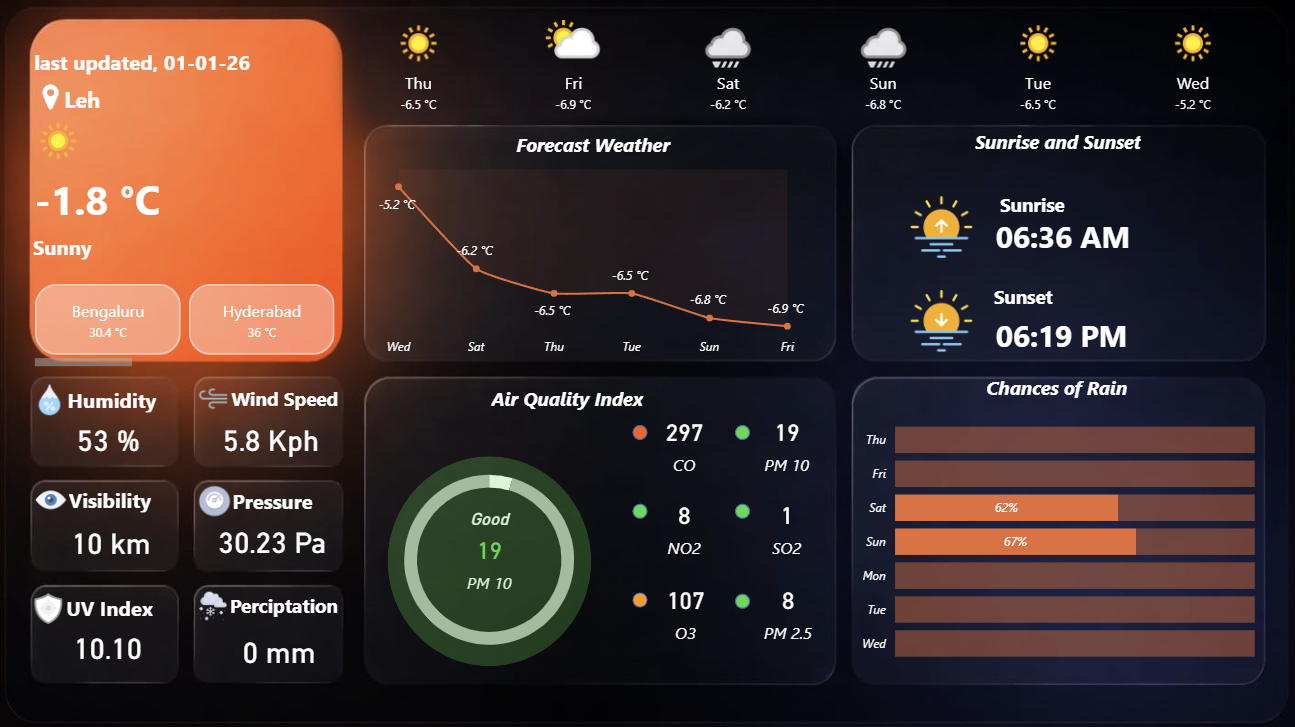

The page's visual inventory and layout, read from the dashboard file:
{"tool":"powerbi","page":{"name":"Page 1","canvas":[1280,720],"ordinal":0},"visuals":[{"type":"advancedSlicerVisual","fields":{"Values":["Location.location.name"]},"box":[29.6,275.3,306.2,93.8],"z":0},{"type":"shape","box":[29.6,223.5,139.5,39.5],"z":1000},{"type":"shape","box":[29.6,164.2,153.1,60.5],"z":2000},{"type":"shape","box":[60.5,77.8,139.5,39.5],"z":3000},{"type":"shape","box":[30.9,40.7,235.8,39.5],"z":4000},{"type":"cardVisual","fields":{"Data":["Min(Current.current.condition.icon)"]},"box":[8.6,100,97.5,79],"z":5000},{"type":"shape","box":[65.4,476.5,98.8,32.1],"z":6000},{"type":"image","box":[29.6,77.8,40.7,35.8],"z":7000},{"type":"image","box":[34.6,475.3,30.9,37],"z":8000},{"type":"shape","box":[64.6,377.9,98.8,32.1],"z":9000},{"type":"image","box":[33.7,376.7,30.9,37],"z":10000},{"type":"shape","box":[225.9,376.5,121,32.1],"z":11000},{"type":"image","box":[194.8,374.8,30.9,37],"z":12000},{"type":"shape","box":[226.8,477.9,98.8,32.1],"z":13000},{"type":"image","box":[195.9,476.7,30.9,37],"z":14000},{"type":"shape","box":[224.7,581.5,133.3,32.1],"z":15000},{"type":"image","box":[194.1,580.5,30.9,37],"z":16000},{"type":"shape","box":[63.1,583.8,98.8,32.1],"z":17000},{"type":"image","box":[32.2,582.6,30.9,37],"z":18000},{"type":"card","fields":{"Values":["_Measures.Humidity"]},"box":[64.2,408.6,85.2,50.6],"z":19000},{"type":"card","fields":{"Values":["_Measures.Visibility"]},"box":[58,509.9,103.7,50.6],"z":20000},{"type":"card","fields":{"Values":["Sum(Current.current.uv)"]},"box":[64.2,613.6,85.2,50.6],"z":21000},{"type":"card","fields":{"Values":["_Measures.Wind_Speed"]},"box":[192.6,408.6,149.4,50.6],"z":22000},{"type":"card","fields":{"Values":["_Measures.Pressure"]},"box":[209.9,508.6,118.5,50.6],"z":23000},{"type":"card","fields":{"Values":["_Measures.Perciptation/rainfall"]},"box":[228.4,617.3,95.1,50.6],"z":24000},{"type":"advancedSlicerVisual","fields":{"Values":["Forecast_Day.Day_Name"]},"box":[335.8,12.3,924.7,117.3],"z":25000},{"type":"lineChart","title":"Forecast Weather","fields":{"Category":["Forecast_Day.Day_Name"],"Y":["Sum(Forecast_Day.forecast.forecastday.day.avgtemp_c)"]},"box":[358,129.6,455.6,230.9],"z":26000},{"type":"shape","box":[960.5,123.5,208.6,32.1],"z":27000},{"type":"shape","box":[979,202.5,153.1,60.5],"z":28000},{"type":"shape","box":[979,300,153.1,60.5],"z":29000},{"type":"shape","box":[985.2,185.2,80.2,32.1],"z":30000},{"type":"shape","box":[979,276.5,80.2,32.1],"z":31000},{"type":"image","box":[880.2,193.8,98.8,60.5],"z":32000},{"type":"image","box":[880.2,286.4,98.8,60.5],"z":33000},{"type":"hundredPercentStackedBarChart","title":"Chances of Rain","fields":{"Category":["Forecast_Day.Day_Name"],"Y":["Sum(Forecast_Day.forecast.forecastday.day.daily_chance_of_rain)","_Measures.Left_value_rain"]},"box":[843.2,370.4,401.2,297.5],"z":34000},{"type":"shape","box":[482.7,376.5,208.6,32.1],"z":35000},{"type":"card","fields":{"Values":["Sum(Current.current.air_quality.pm10)"]},"box":[702.5,398.8,149.4,79],"z":36000},{"type":"card","fields":{"Values":["Sum(Current.current.air_quality.so2)"]},"box":[702.5,480.2,149.4,79],"z":37000},{"type":"card","fields":{"Values":["Sum(Current.current.air_quality.co)"]},"box":[601.2,398.8,149.4,79],"z":38000},{"type":"card","fields":{"Values":["Sum(Current.current.air_quality.no2)"]},"box":[601.2,480.2,149.4,79],"z":39000},{"type":"card","fields":{"Values":["Sum(Current.current.air_quality.pm2_5)"]},"box":[703.7,564.2,149.4,79],"z":40000},{"type":"card","fields":{"Values":["Sum(Current.current.air_quality.o3)"]},"box":[602.5,564.2,149.4,79],"z":41000},{"type":"shape","box":[624.7,419.8,14.8,14.8],"z":42000},{"type":"shape","box":[624.7,497.5,14.8,14.8],"z":43000},{"type":"shape","box":[624.7,585.2,14.8,14.8],"z":44000},{"type":"shape","box":[725.9,419.8,14.8,14.8],"z":45000},{"type":"shape","box":[725.9,497.5,14.8,14.8],"z":46000},{"type":"shape","box":[725.9,586.4,14.8,14.8],"z":47000},{"type":"card","fields":{"Values":["Sum(Current.current.air_quality.pm10)"]},"box":[408.6,502.5,149.4,84],"z":48000},{"type":"donutChart","fields":{"Y":["Sum(Current.current.air_quality.pm10)","_Measures.Left_value_PM10"]},"box":[328.4,443.2,309.9,219.8],"z":49000},{"type":"shape","box":[382.7,450.6,201.2,207.4],"z":50000}]}

Visuals, with their boxes in screenshot pixels (x1, y1, x2, y2), scaled from the page's 1280x720 canvas onto the 1295x727 screenshot:
advancedSlicerVisual - Location.location.name: 30, 278, 340, 373
shape: 30, 226, 171, 266
shape: 30, 166, 185, 227
shape: 61, 79, 202, 118
shape: 31, 41, 270, 81
cardVisual - Min(Current.current.condition.icon): 9, 101, 107, 181
shape: 66, 481, 166, 514
image: 30, 79, 71, 115
image: 35, 480, 66, 517
shape: 65, 382, 165, 414
image: 34, 380, 65, 418
shape: 229, 380, 351, 413
image: 197, 378, 228, 416
shape: 229, 483, 329, 515
image: 198, 481, 229, 519
shape: 227, 587, 362, 620
image: 196, 586, 228, 624
shape: 64, 589, 164, 622
image: 33, 588, 64, 626
card - _Measures.Humidity: 65, 413, 151, 464
card - _Measures.Visibility: 59, 515, 164, 566
card - Sum(Current.current.uv): 65, 620, 151, 671
card - _Measures.Wind_Speed: 195, 413, 346, 464
card - _Measures.Pressure: 212, 514, 332, 565
card - _Measures.Perciptation/rainfall: 231, 623, 327, 674
advancedSlicerVisual - Forecast_Day.Day_Name: 340, 12, 1275, 131
"Forecast Weather" lineChart: 362, 131, 823, 364
shape: 972, 125, 1183, 157
shape: 990, 204, 1145, 266
shape: 990, 303, 1145, 364
shape: 997, 187, 1078, 219
shape: 990, 279, 1072, 312
image: 891, 196, 990, 257
image: 891, 289, 990, 350
"Chances of Rain" hundredPercentStackedBarChart: 853, 374, 1259, 674
shape: 488, 380, 699, 413
card - Sum(Current.current.air_quality.pm10): 711, 403, 862, 482
card - Sum(Current.current.air_quality.so2): 711, 485, 862, 565
card - Sum(Current.current.air_quality.co): 608, 403, 759, 482
card - Sum(Current.current.air_quality.no2): 608, 485, 759, 565
card - Sum(Current.current.air_quality.pm2_5): 712, 570, 863, 649
card - Sum(Current.current.air_quality.o3): 610, 570, 761, 649
shape: 632, 424, 647, 439
shape: 632, 502, 647, 517
shape: 632, 591, 647, 606
shape: 734, 424, 749, 439
shape: 734, 502, 749, 517
shape: 734, 592, 749, 607
card - Sum(Current.current.air_quality.pm10): 413, 507, 565, 592
donutChart - Sum(Current.current.air_quality.pm10) x _Measures.Left_value_PM10: 332, 448, 646, 669
shape: 387, 455, 591, 664
